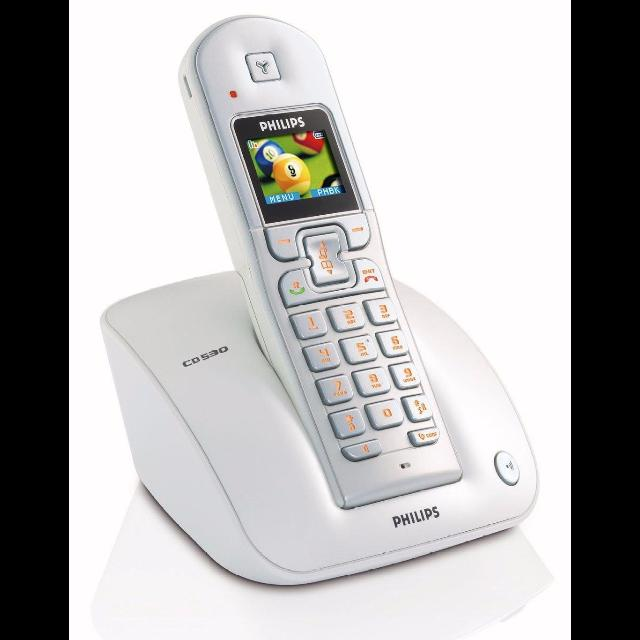Telephone-Set: (113, 21, 562, 583)
